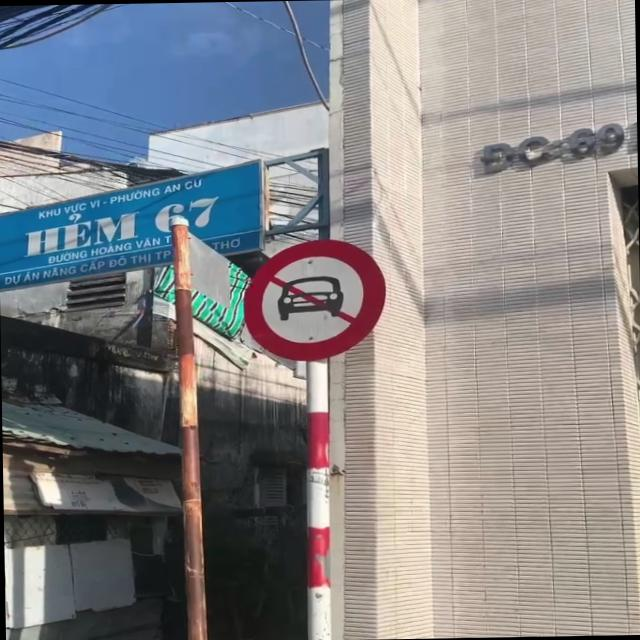Cam_O_To: (244, 234, 389, 360)
